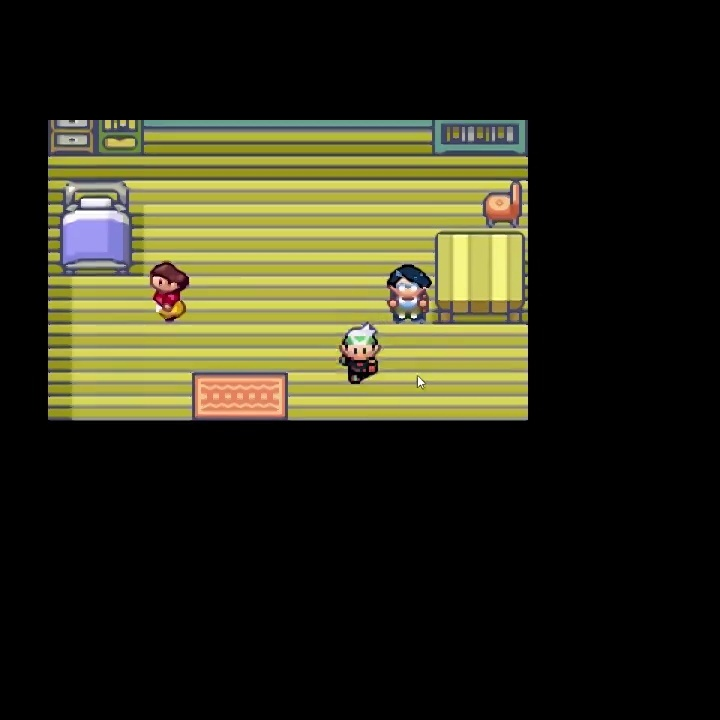exit: (190, 370, 291, 472)
npc: (385, 261, 433, 327), (337, 320, 382, 388), (147, 261, 192, 326)
